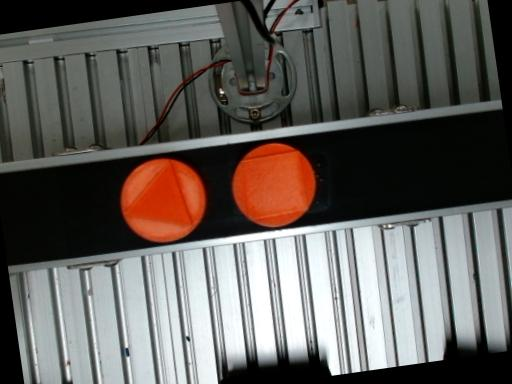Not_Square: (123, 158, 194, 226)
Orange_Waper: (120, 158, 206, 242), (232, 144, 315, 227)
Square: (241, 150, 310, 220)
